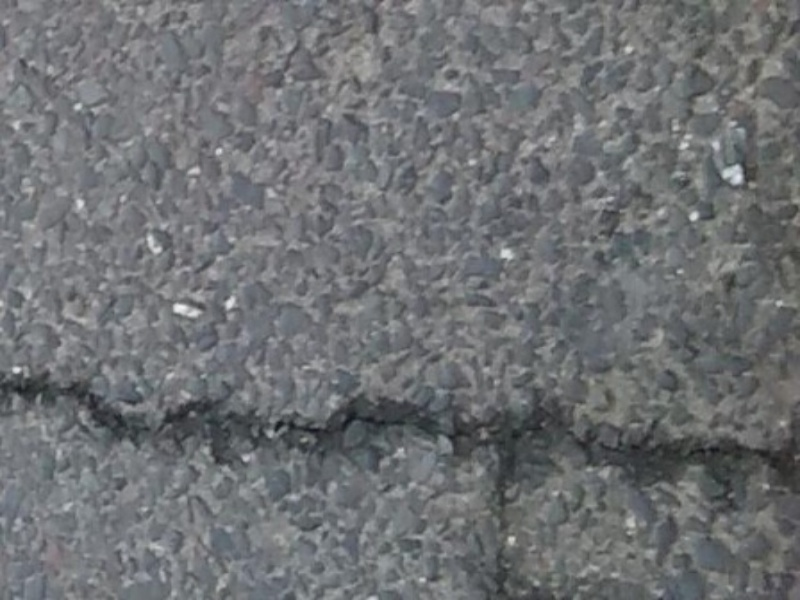crack: (33, 393, 800, 486)
